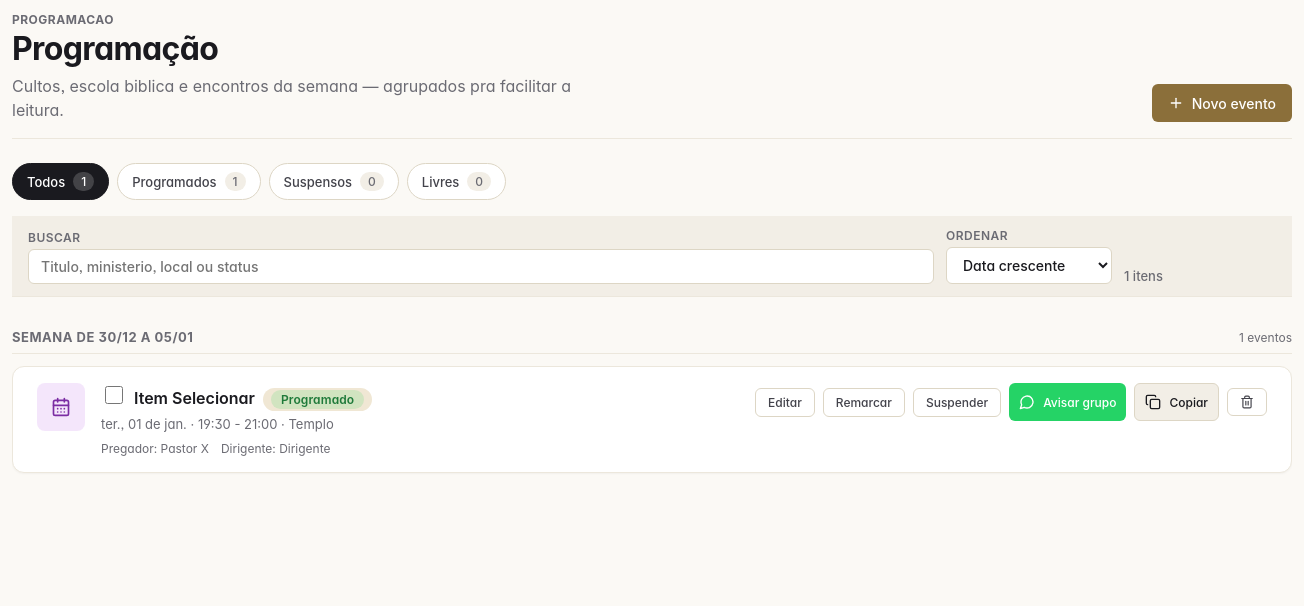
Test case: ScheduleView bulk operations › shows the bulk action bar when at least one item is selected
Click the label named "Selecionar Item Selecionar". click: click(114, 395)
box: [105, 386, 123, 404]
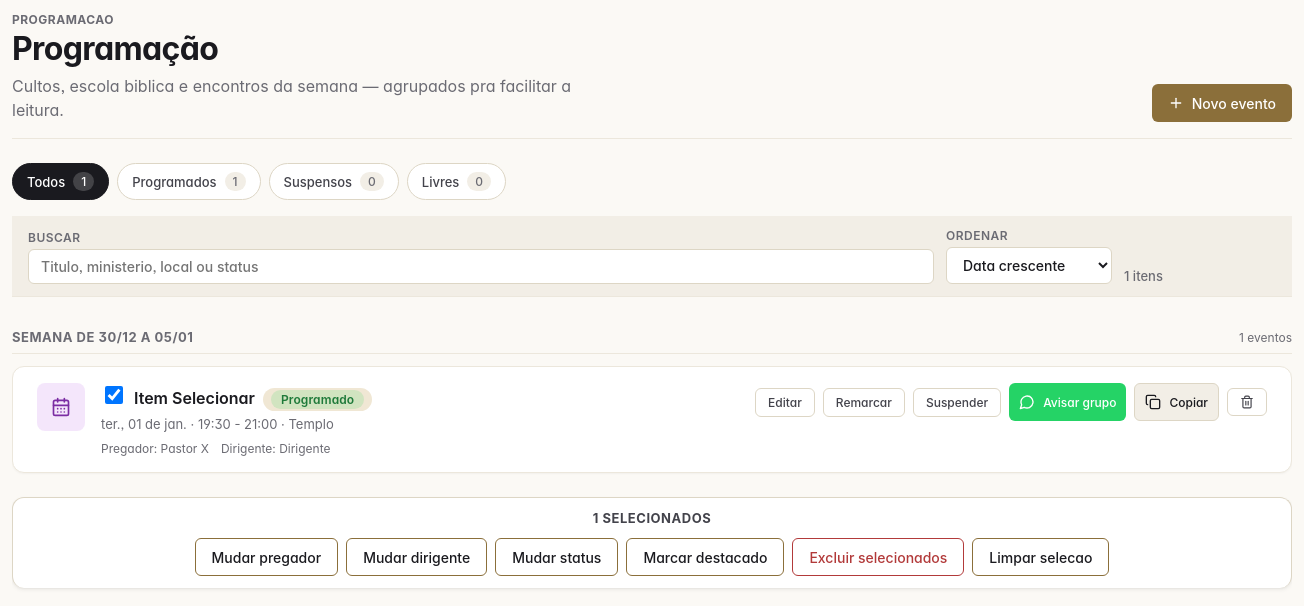
Check: the element named "Acoes em massa" is shown, box [12, 497, 1292, 588]
Check: the text "1 selecionados" is shown, box [593, 510, 711, 526]
